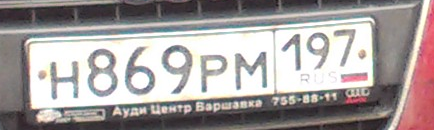character: (157, 43, 196, 96), (123, 45, 158, 97), (86, 48, 120, 97), (46, 59, 83, 102), (234, 50, 271, 92), (198, 48, 229, 95), (304, 32, 332, 70), (279, 31, 304, 73), (333, 28, 359, 66)
